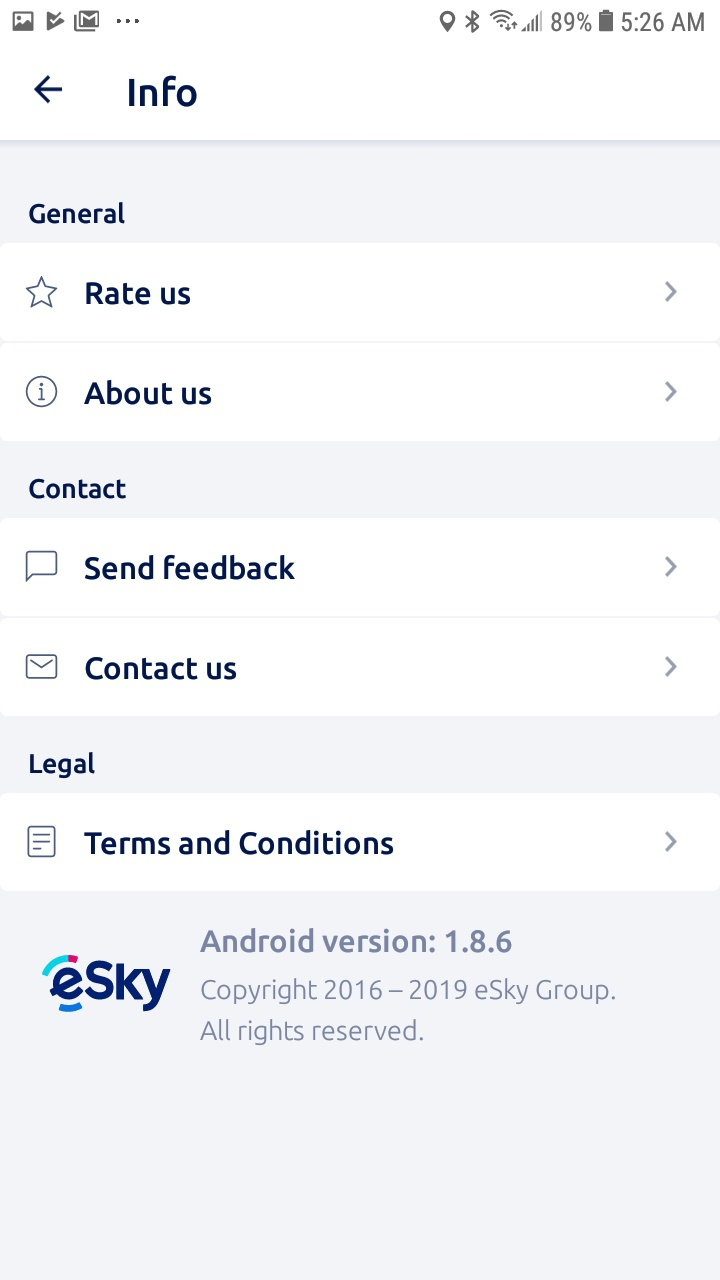Icon: (27, 276, 59, 309), (26, 551, 59, 583), (27, 376, 59, 408), (28, 825, 57, 858), (35, 75, 64, 104), (27, 654, 59, 680), (664, 831, 677, 853), (664, 556, 677, 578), (664, 381, 677, 403), (665, 281, 678, 303), (664, 657, 677, 678)
Image: (42, 955, 171, 1013)
Text: (200, 978, 616, 1046), (200, 927, 512, 953), (84, 830, 394, 856), (85, 555, 296, 581), (86, 657, 237, 681), (84, 380, 212, 406), (86, 282, 191, 306), (129, 75, 198, 108), (29, 202, 126, 225), (29, 479, 127, 500), (30, 752, 96, 779)
UpperTaskBar: (1, 1, 720, 35)
